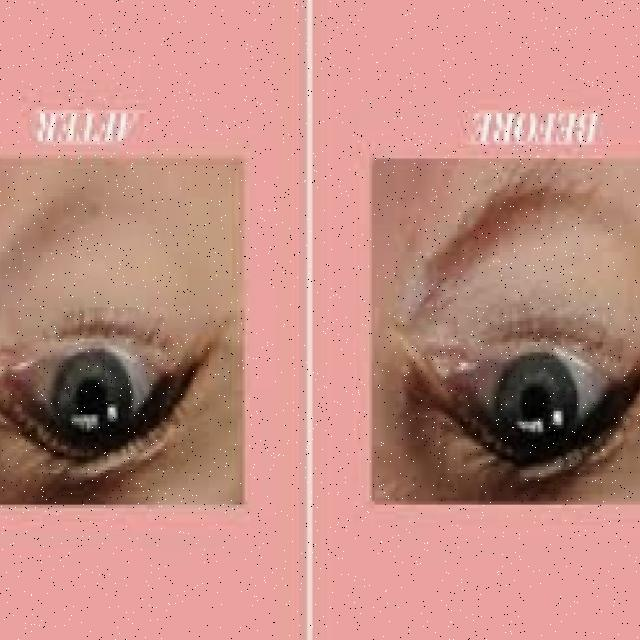puffy_eyes: (371, 169, 640, 349)
